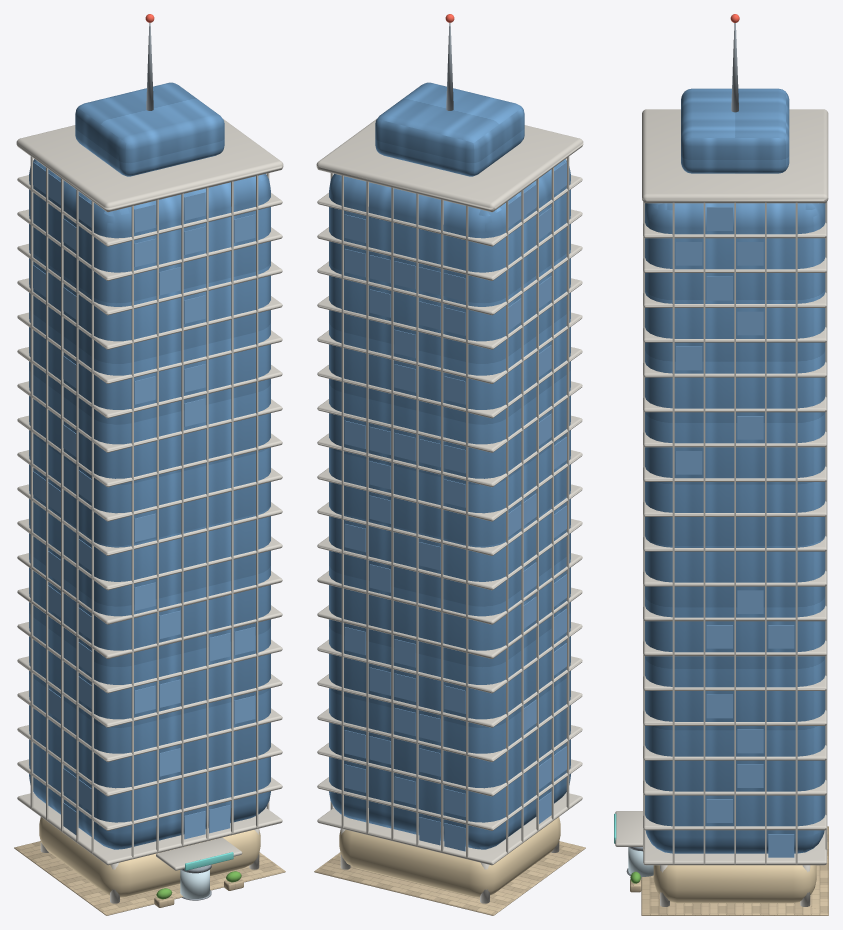
The model's file is tower_b.gltf.
3 views of the same model, side by side, from view 1: azimuth 30°, elevation 25°; view 2: azimuth 150°, elevation 25°; view 3: azimuth 270°, elevation 25° (orthographic).
Visible parts, largest first — view 1: tower_b_mesh; view 2: tower_b_mesh; view 3: tower_b_mesh.
Boxes of the visible parts, x1,y1,x2,y2 form: tower_b_mesh: (14,14,285,915); tower_b_mesh: (314,14,585,915); tower_b_mesh: (614,14,828,915).
Size of what is drawn, in the model's own units: 18.6 by 83.7 by 19.02.
10 materials, 2 textured.
